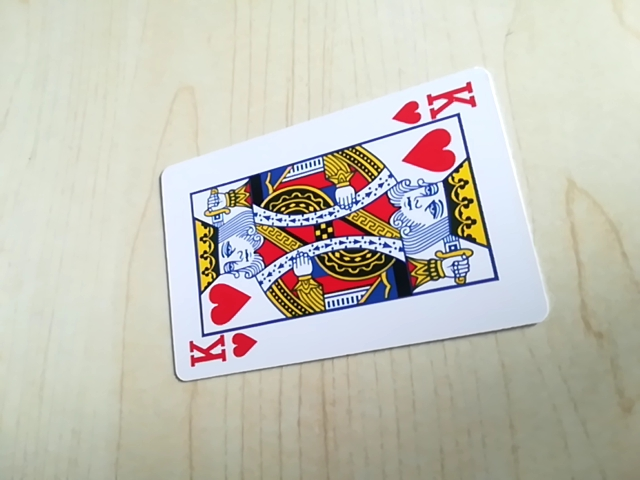hx k: (389, 82, 481, 128), (183, 328, 262, 376)
